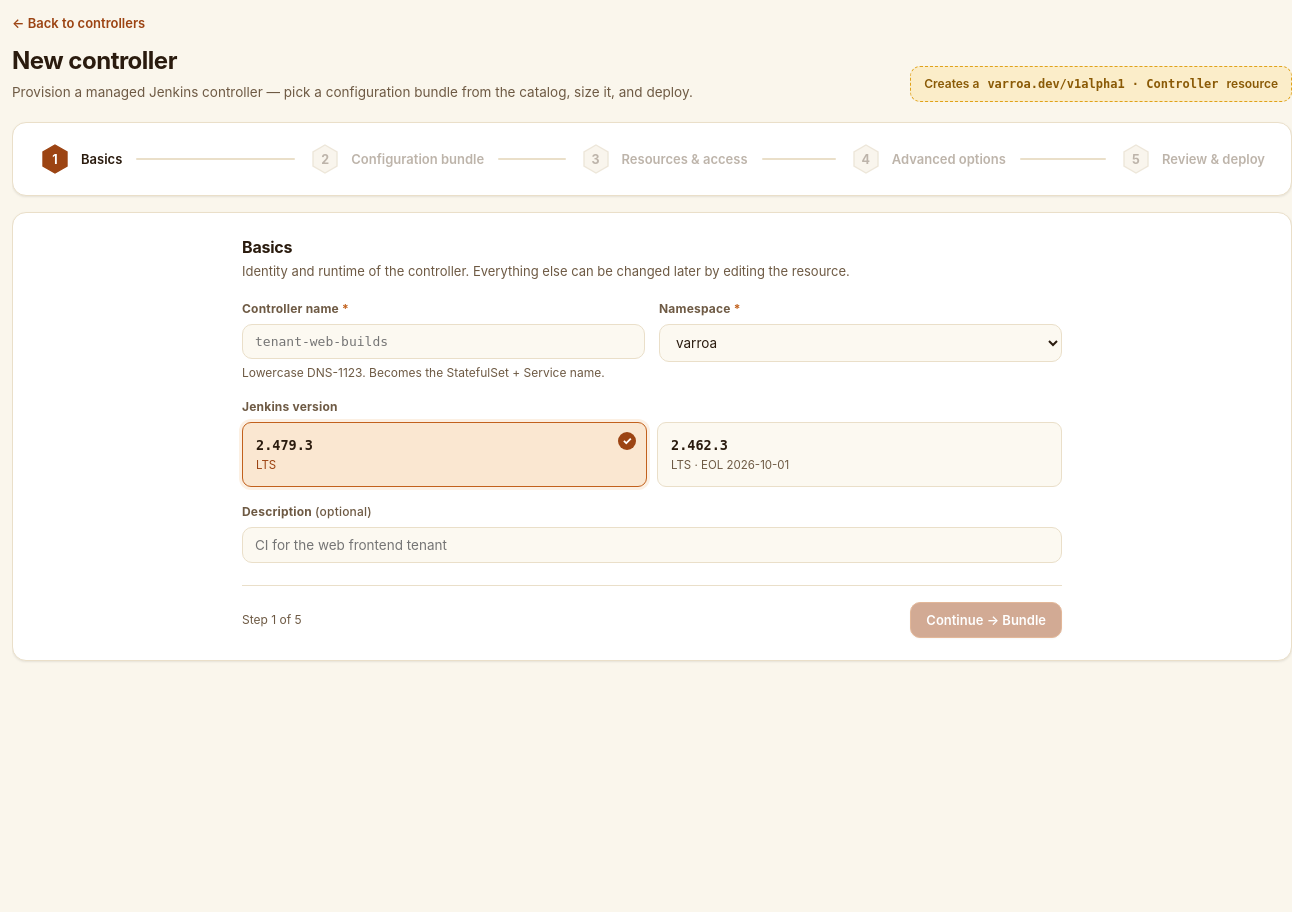
Test case: ControllerWizard › fills step 1 and navigates to step 2
In the field with placeholder "tenant-web-builds": (444, 341) [242, 324, 645, 359], type "my-ctrl"
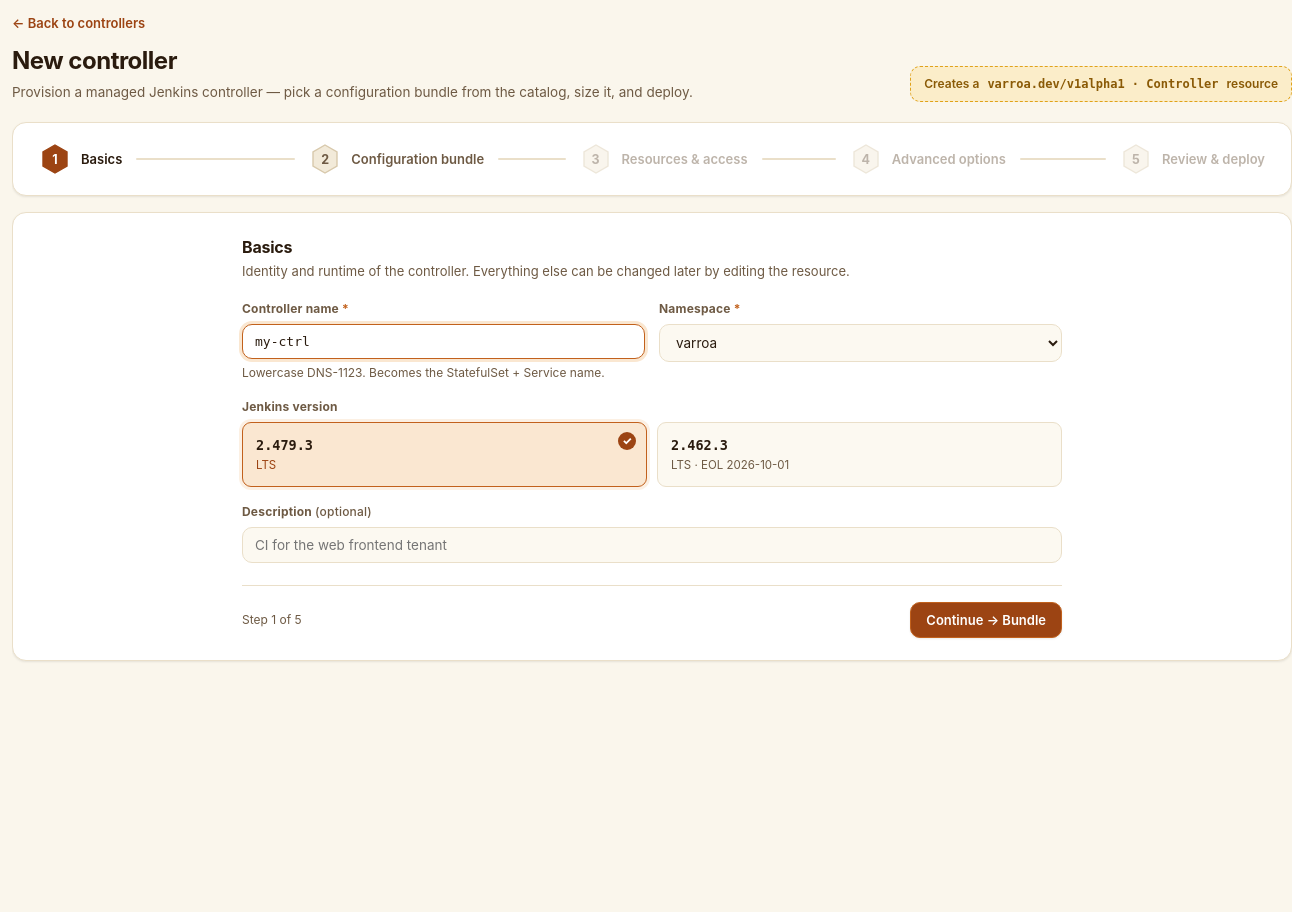
Click the button "Continue → Bundle": (986, 620) [910, 602, 1062, 638]
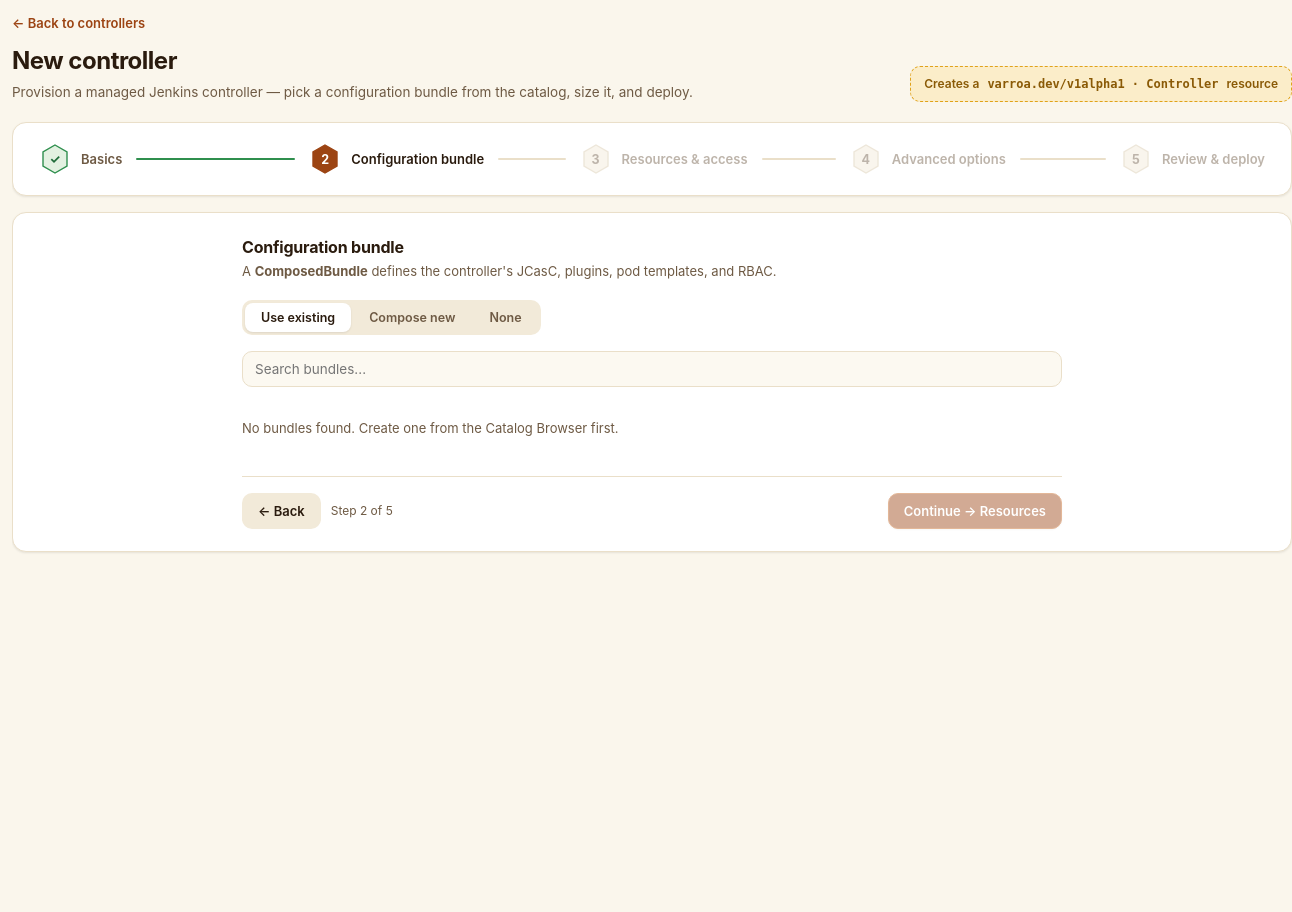
Expected: the text "ComposedBundle" is shown, [255, 263, 368, 279]
